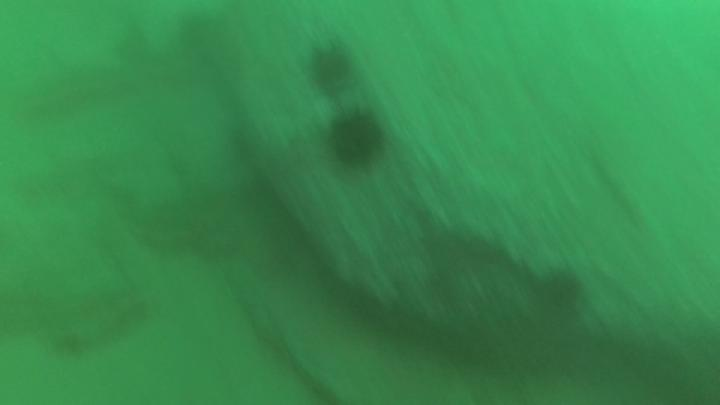echinus: (321, 103, 393, 176), (297, 40, 362, 102)
